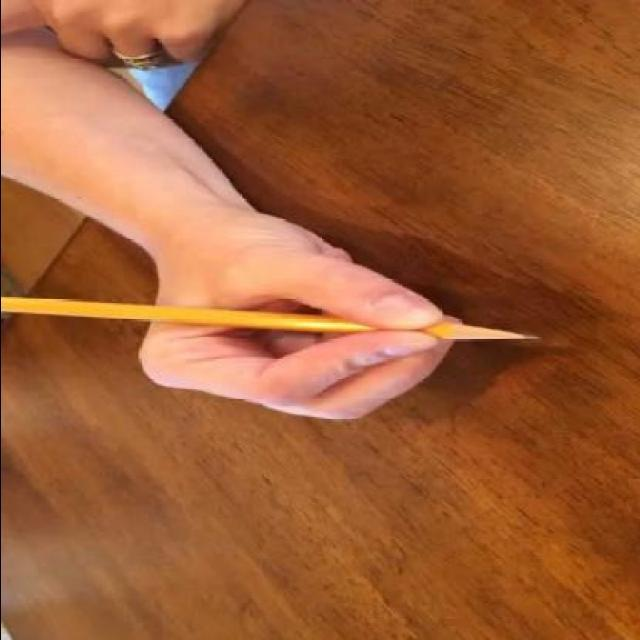pencil: (429, 316, 549, 354)
